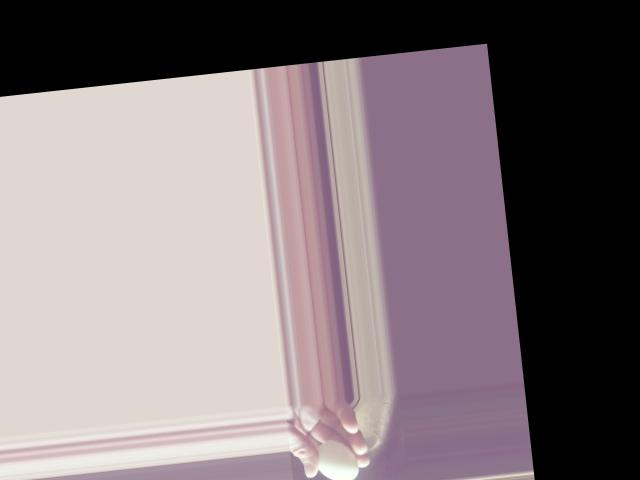egg: (314, 437, 359, 480)
